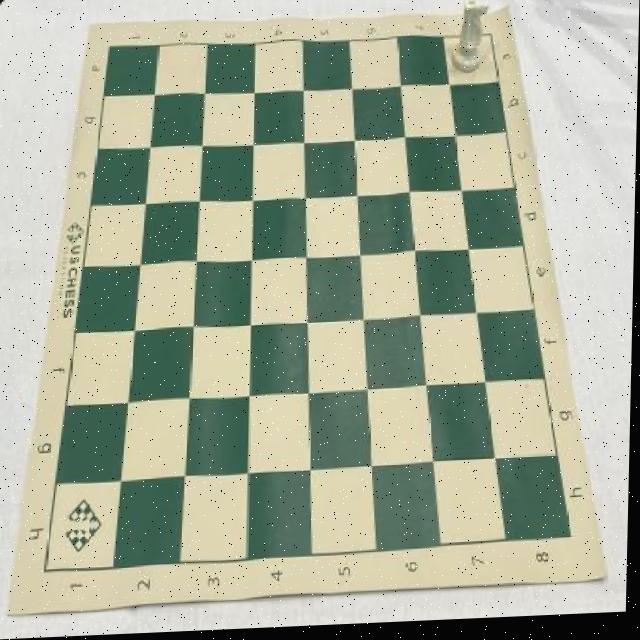white-king: (451, 1, 489, 80)
